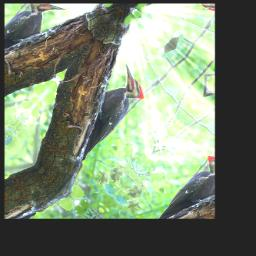Woodpecker: (56, 62, 154, 165)
